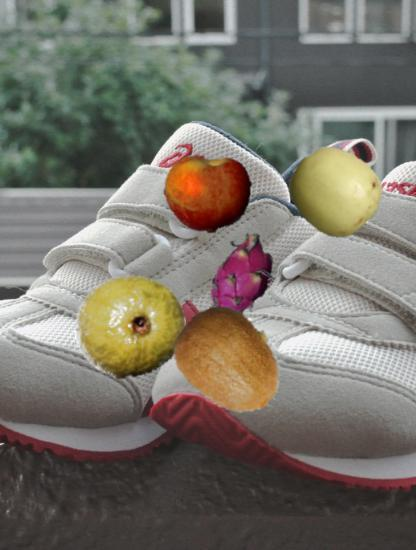Apple: (290, 146, 381, 237)
Guava: (74, 270, 187, 383)
Kiwi: (168, 303, 290, 425)
Nectarine: (164, 150, 253, 239)
Pitahaya: (196, 231, 286, 321)
